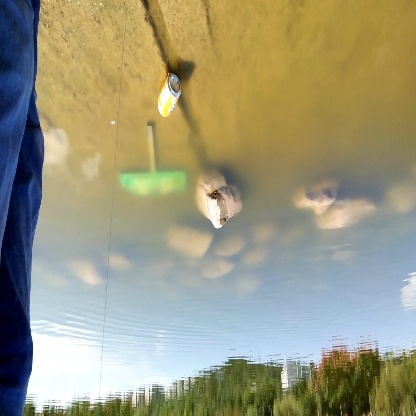bottle: (155, 71, 185, 124)
